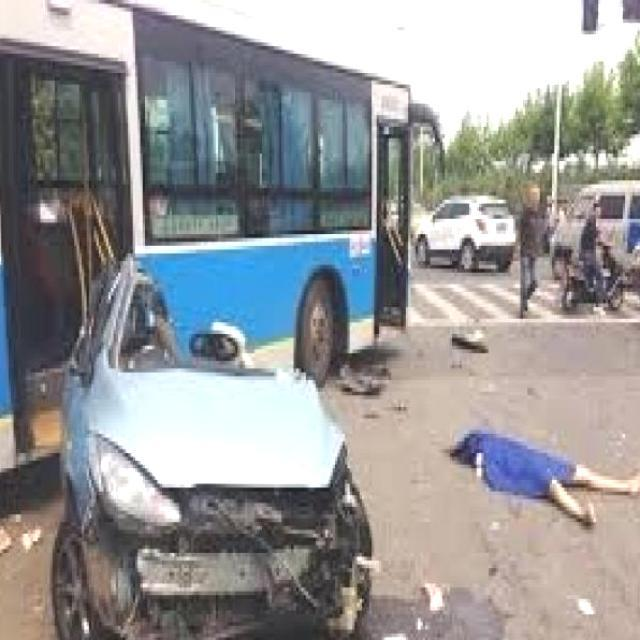accident: (65, 205, 399, 640)
